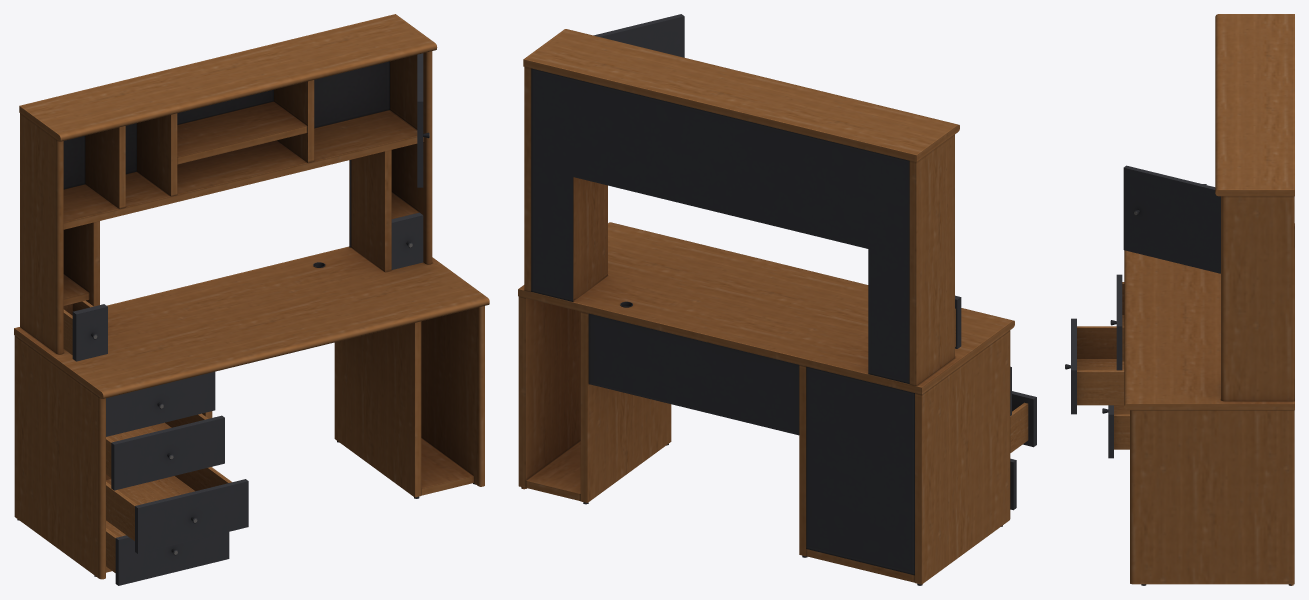
Rendered from modern_desk.glb.
The picture shows the model from 3 angles, left to right: view 1: azimuth 30°, elevation 25°; view 2: azimuth 150°, elevation 25°; view 3: azimuth 270°, elevation 25°; orthographic projection. The views are drawn at different scales.
Visible parts, largest first — view 1: desk, drawer.001, drawer.002, drawer.003, drawer, drawer_small, drawer_small.001, door; view 2: desk, door, drawer.001; view 3: desk, door, drawer.001, drawer, drawer.002.
Boxes of the visible parts, x1,y1,x2,y2 form: desk: (14, 14, 489, 579); drawer.001: (106, 467, 248, 553); drawer.002: (106, 413, 224, 490); drawer.003: (106, 371, 215, 436); drawer: (106, 520, 229, 585); drawer_small: (63, 300, 107, 361); drawer_small.001: (391, 212, 423, 269); door: (417, 53, 429, 187); desk: (518, 29, 1014, 585); door: (593, 14, 684, 57); drawer.001: (1010, 391, 1036, 452); desk: (1124, 14, 1294, 585); door: (1123, 165, 1220, 273); drawer.001: (1065, 318, 1124, 414); drawer: (1102, 405, 1129, 458); drawer.002: (1110, 274, 1124, 370).
Bounding box in the file's own units: 1.5 × 1.53 × 0.8069.
Materials: 1 (1 with a texture image).
